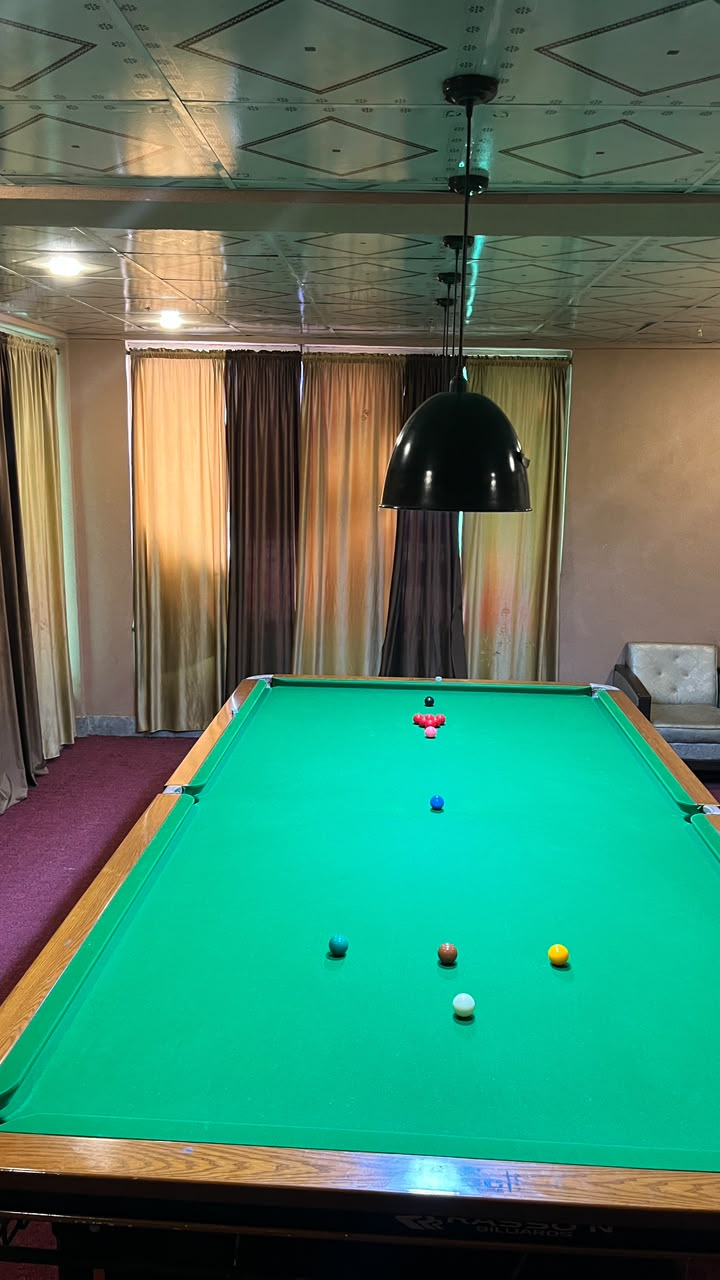Snooker: (413, 712, 448, 728)
